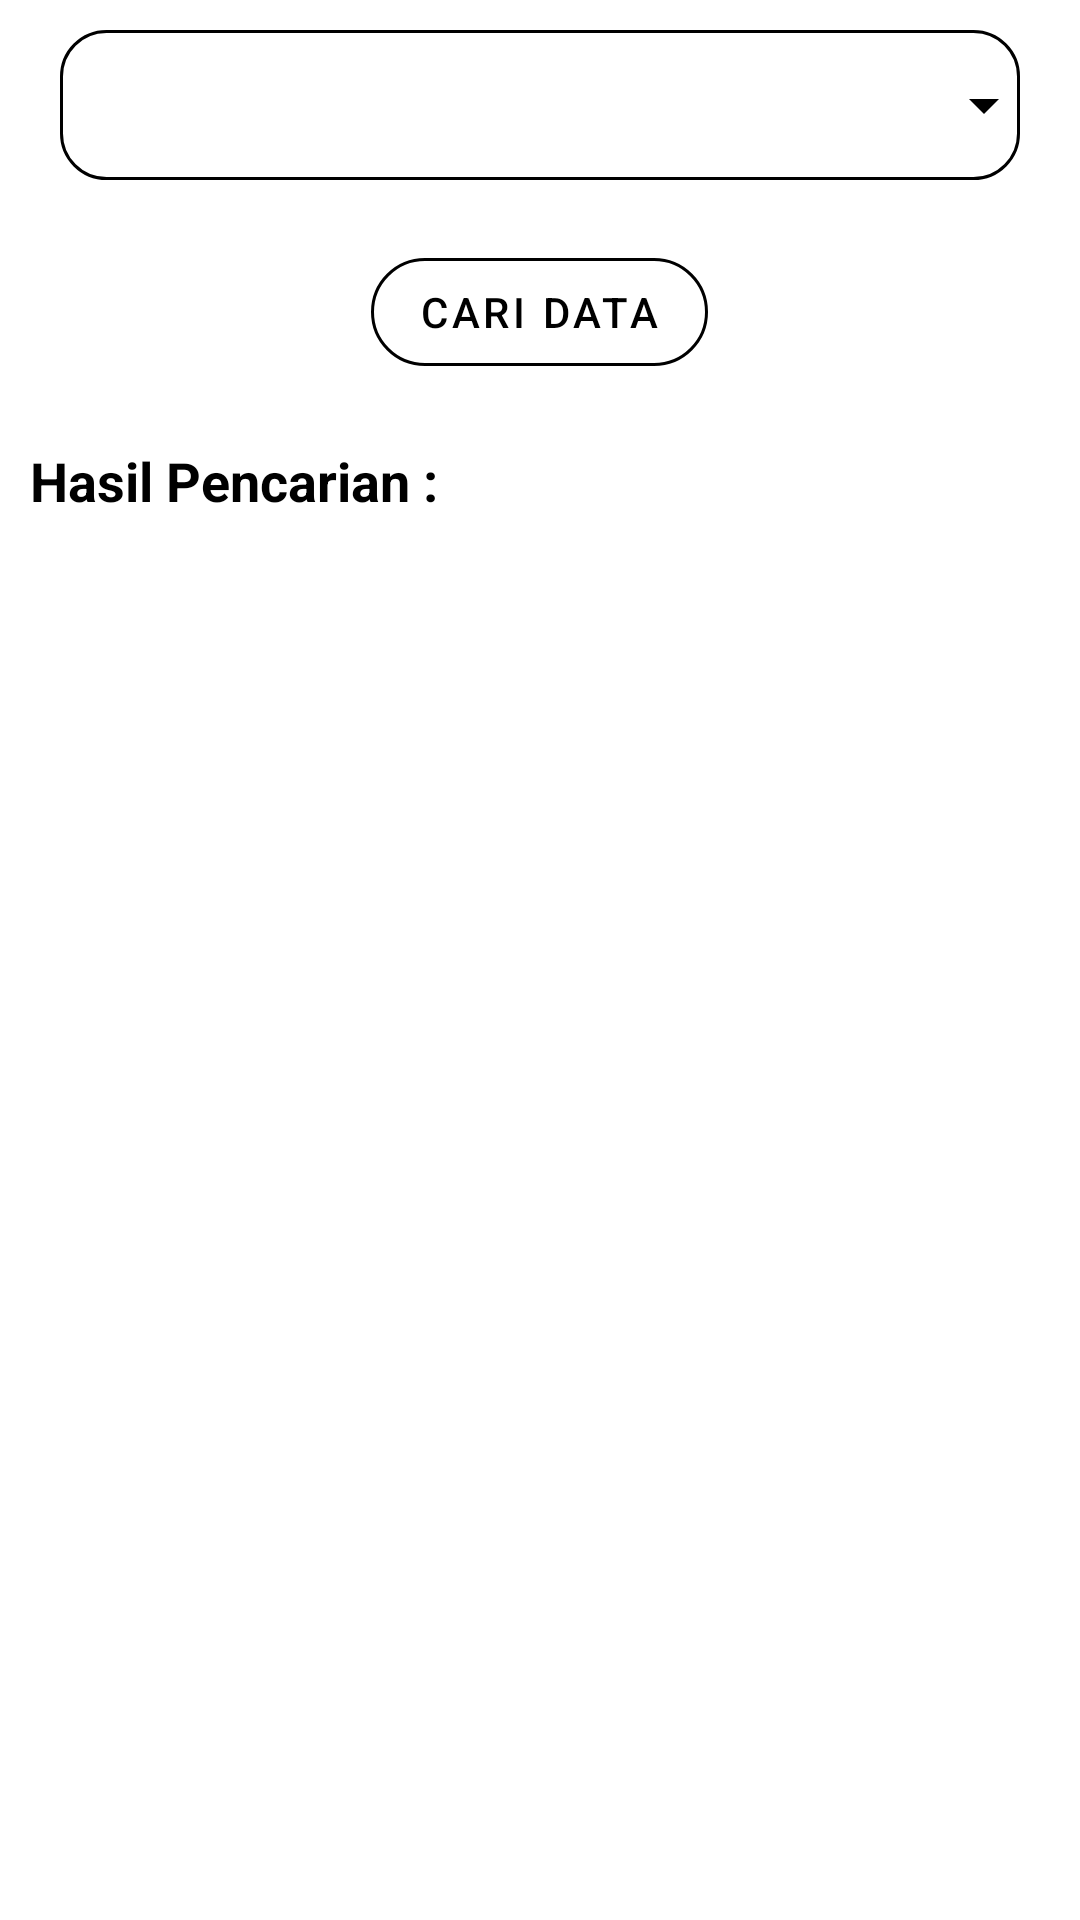

Locate icon controls on the screen. Image size 1080*1920, boxes as (x1, y1, x2, y2).
spinner: (969, 99, 999, 114)
